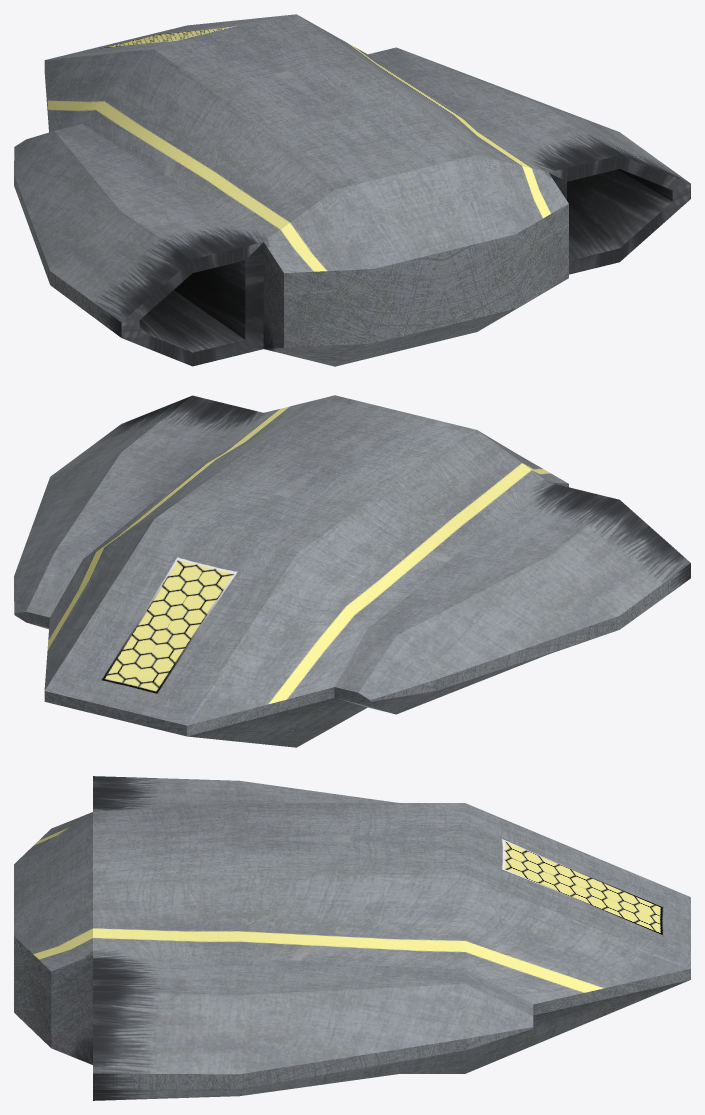
Rendered from spaceship_02.fbx.
The picture shows the model from 3 angles, top to bottom: view 1: azimuth 30°, elevation 25°; view 2: azimuth 150°, elevation 25°; view 3: azimuth 270°, elevation 25°; orthographic projection. The views are drawn at different scales.
Parts seen in each view (by area): view 1: Cube; view 2: Cube; view 3: Cube.
Boxes of the visible parts, x1,y1,x2,y2 form: Cube: (14,14,690,366); Cube: (14,395,690,747); Cube: (14,776,690,1100).
Size of the model in its own units: 400 by 130 by 400.
1 material, 1 textured.
